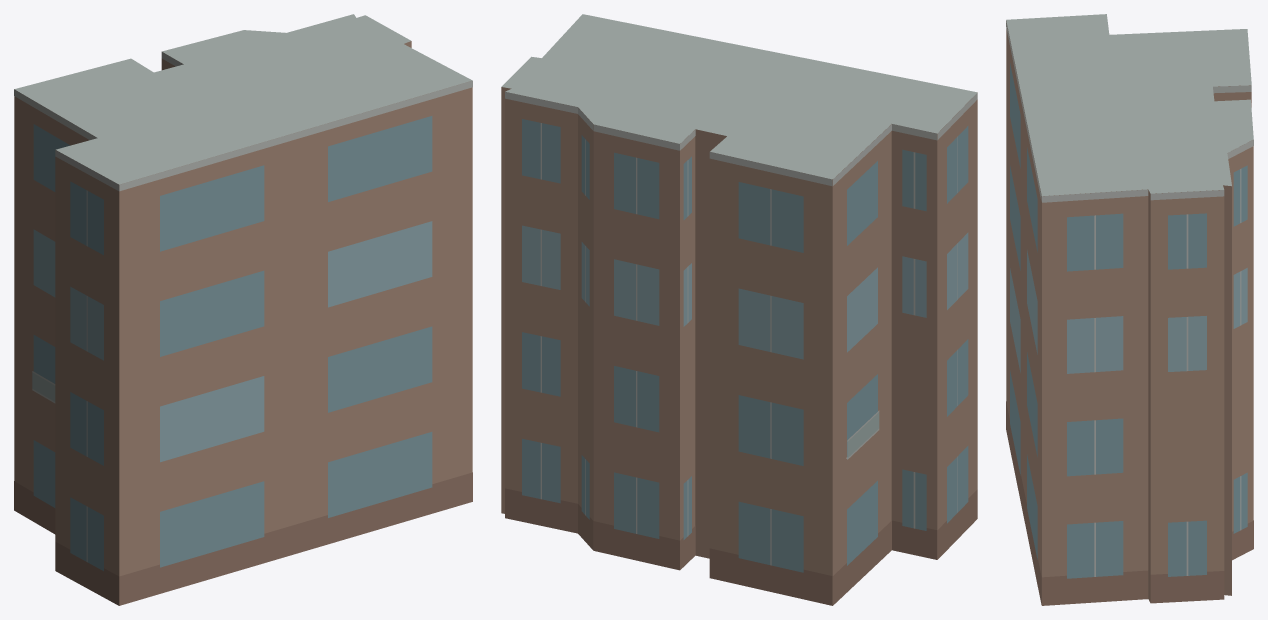
File: survey-upis-32895204.glb
The picture shows the model from 3 angles, left to right: view 1: azimuth 30°, elevation 25°; view 2: azimuth 150°, elevation 25°; view 3: azimuth 270°, elevation 25°; orthographic projection. The views are drawn at different scales.
Visible parts, largest first — view 1: survey-upis-32895204.tmp; view 2: survey-upis-32895204.tmp; view 3: survey-upis-32895204.tmp.
Boxes of the visible parts, x1,y1,x2,y2 form: survey-upis-32895204.tmp: (14, 14, 472, 605); survey-upis-32895204.tmp: (501, 14, 977, 605); survey-upis-32895204.tmp: (1006, 14, 1253, 605).
Size of the model in its own units: 14.46 by 15.15 by 8.31.
